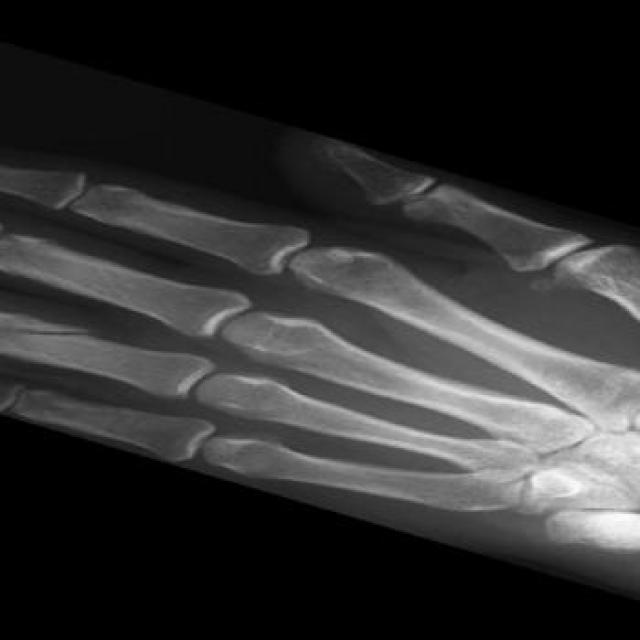Fracture: (0, 312, 117, 343)
